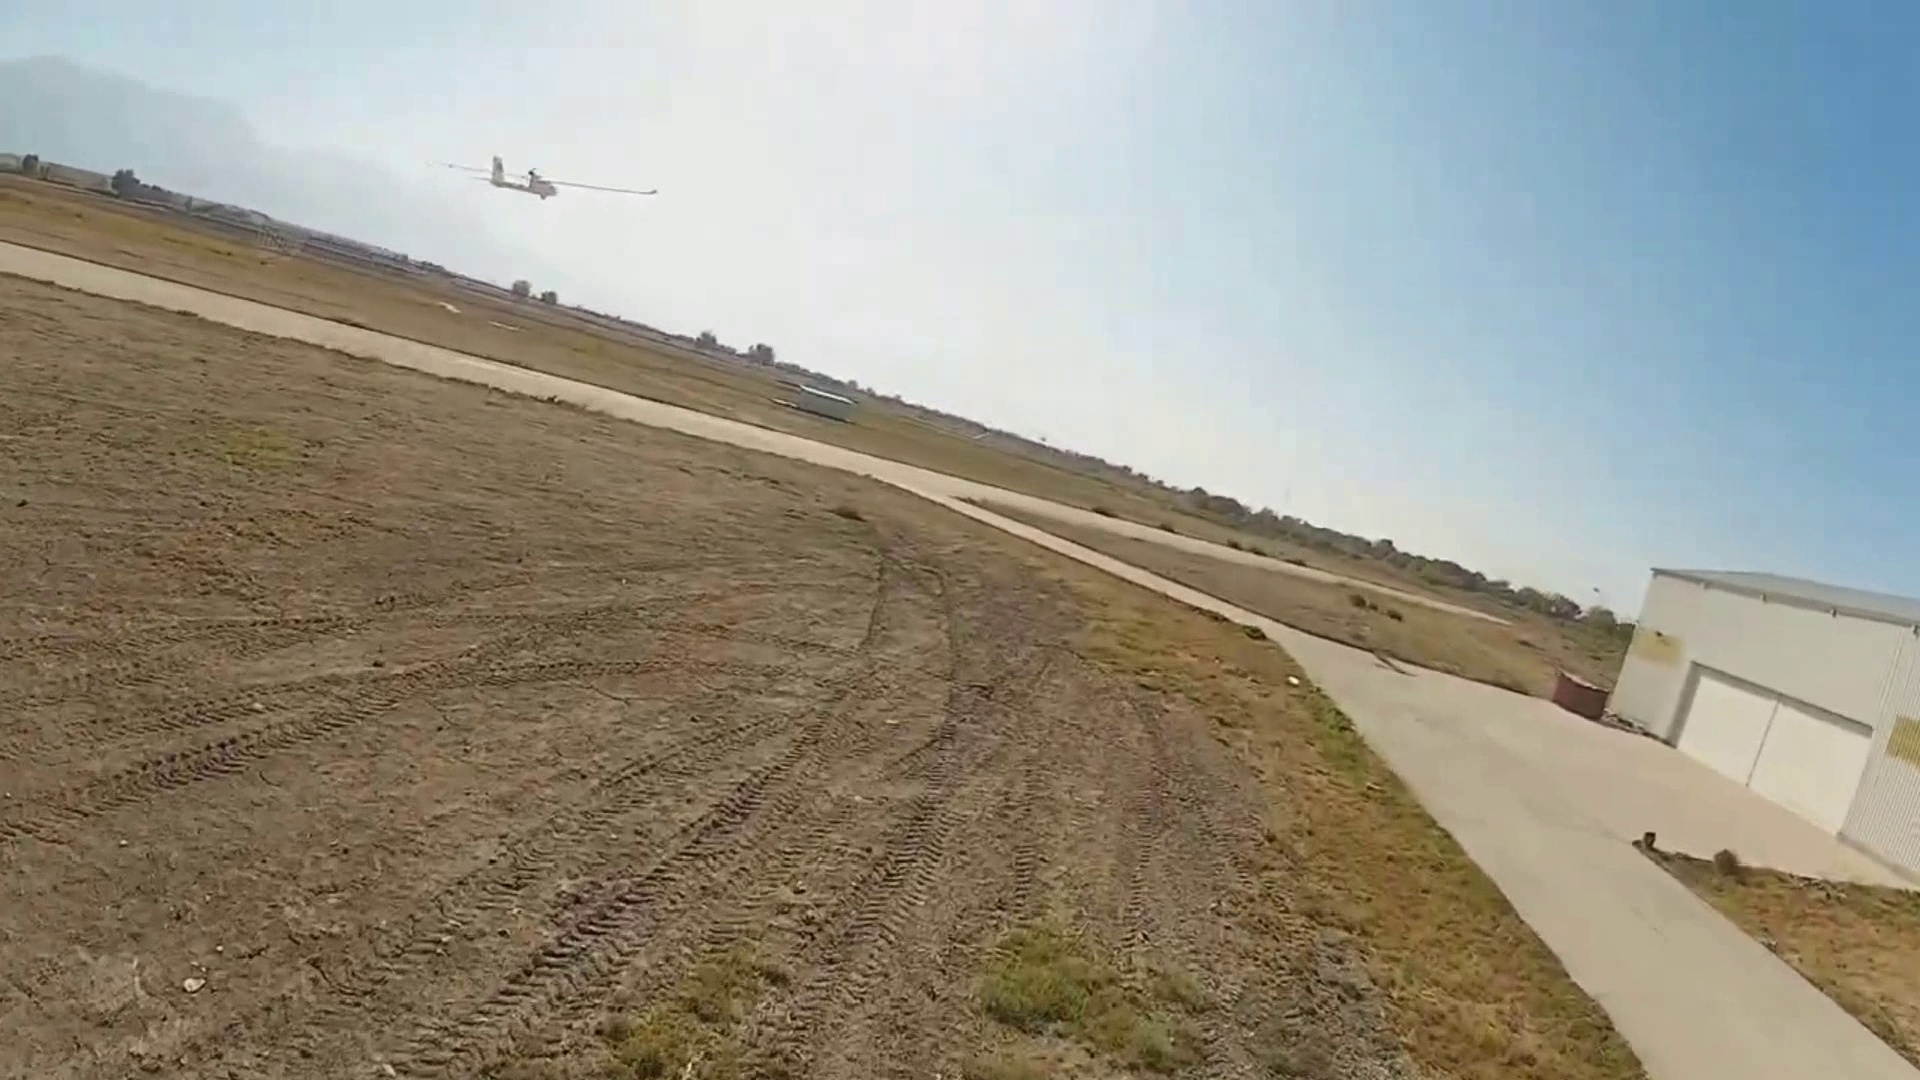airplane: (481, 158, 661, 201)
